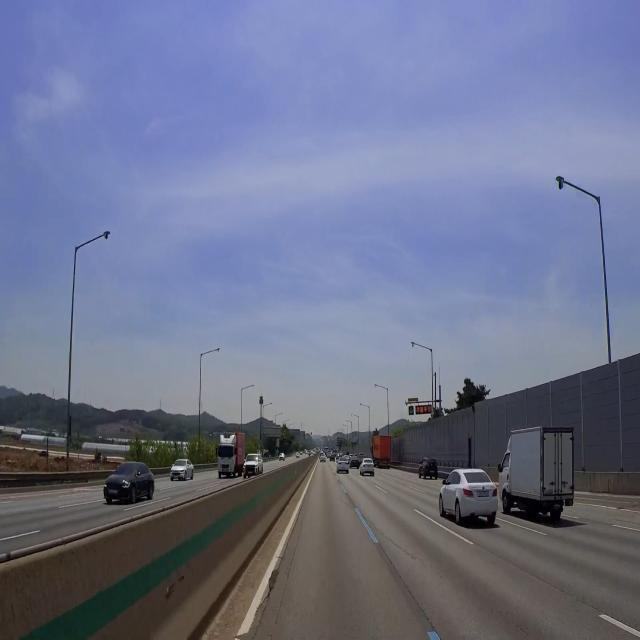car: (107, 483, 122, 502), (475, 487, 492, 503)
